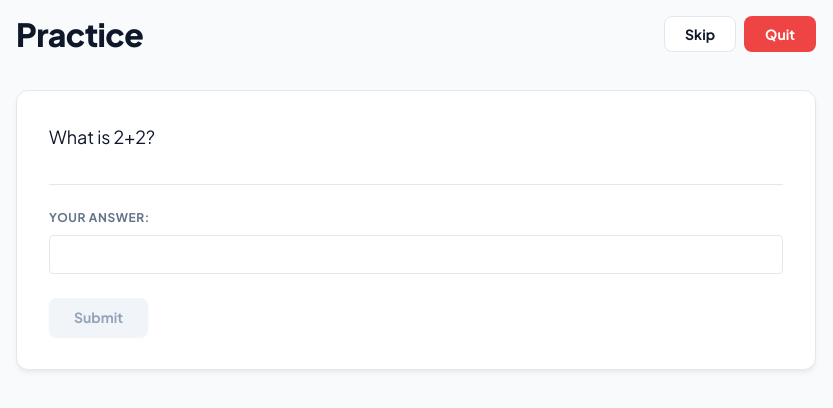
ActivePracticePage › shows incorrect feedback for wrong answer
Expected: the button with test id "submit-button" is shown, [49,298,148,337]
Type "5" into the field at point(416, 254), box [49,235,783,274]
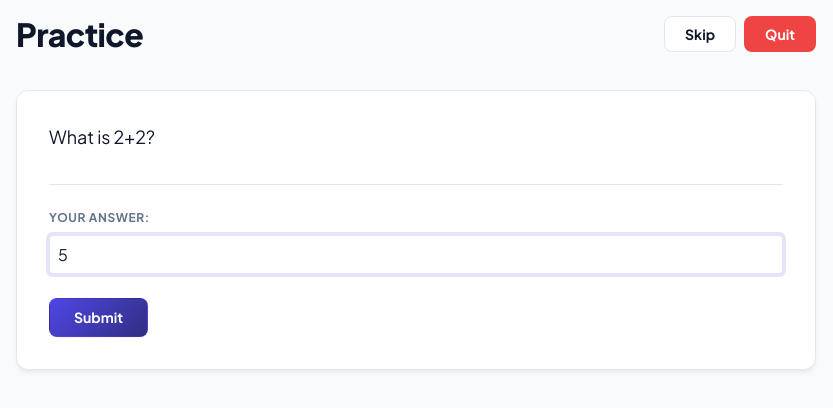
Click the button with test id "submit-button" at point(98, 317), box [49,298,148,337]
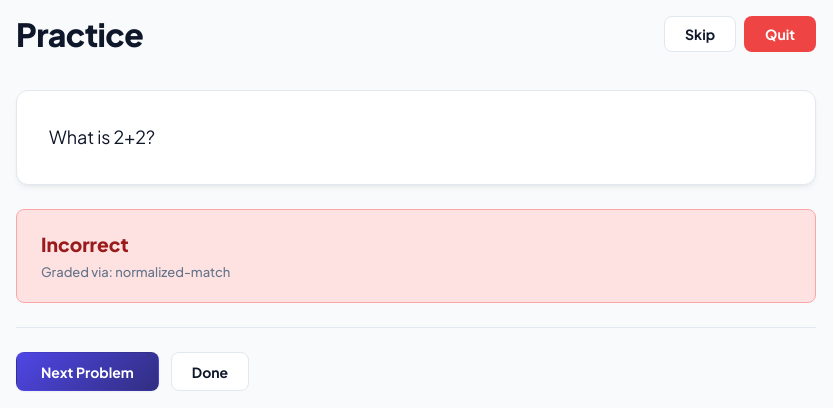
Expected: the element with test id "grading-feedback" is shown, [16,209,816,303]
Expected: the text "Incorrect" is shown, [41,232,129,256]
